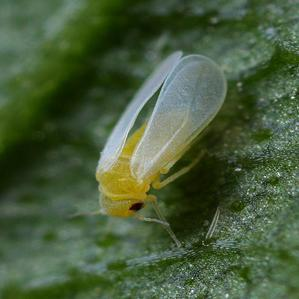Silverleaf whitefly: (67, 43, 244, 249)
